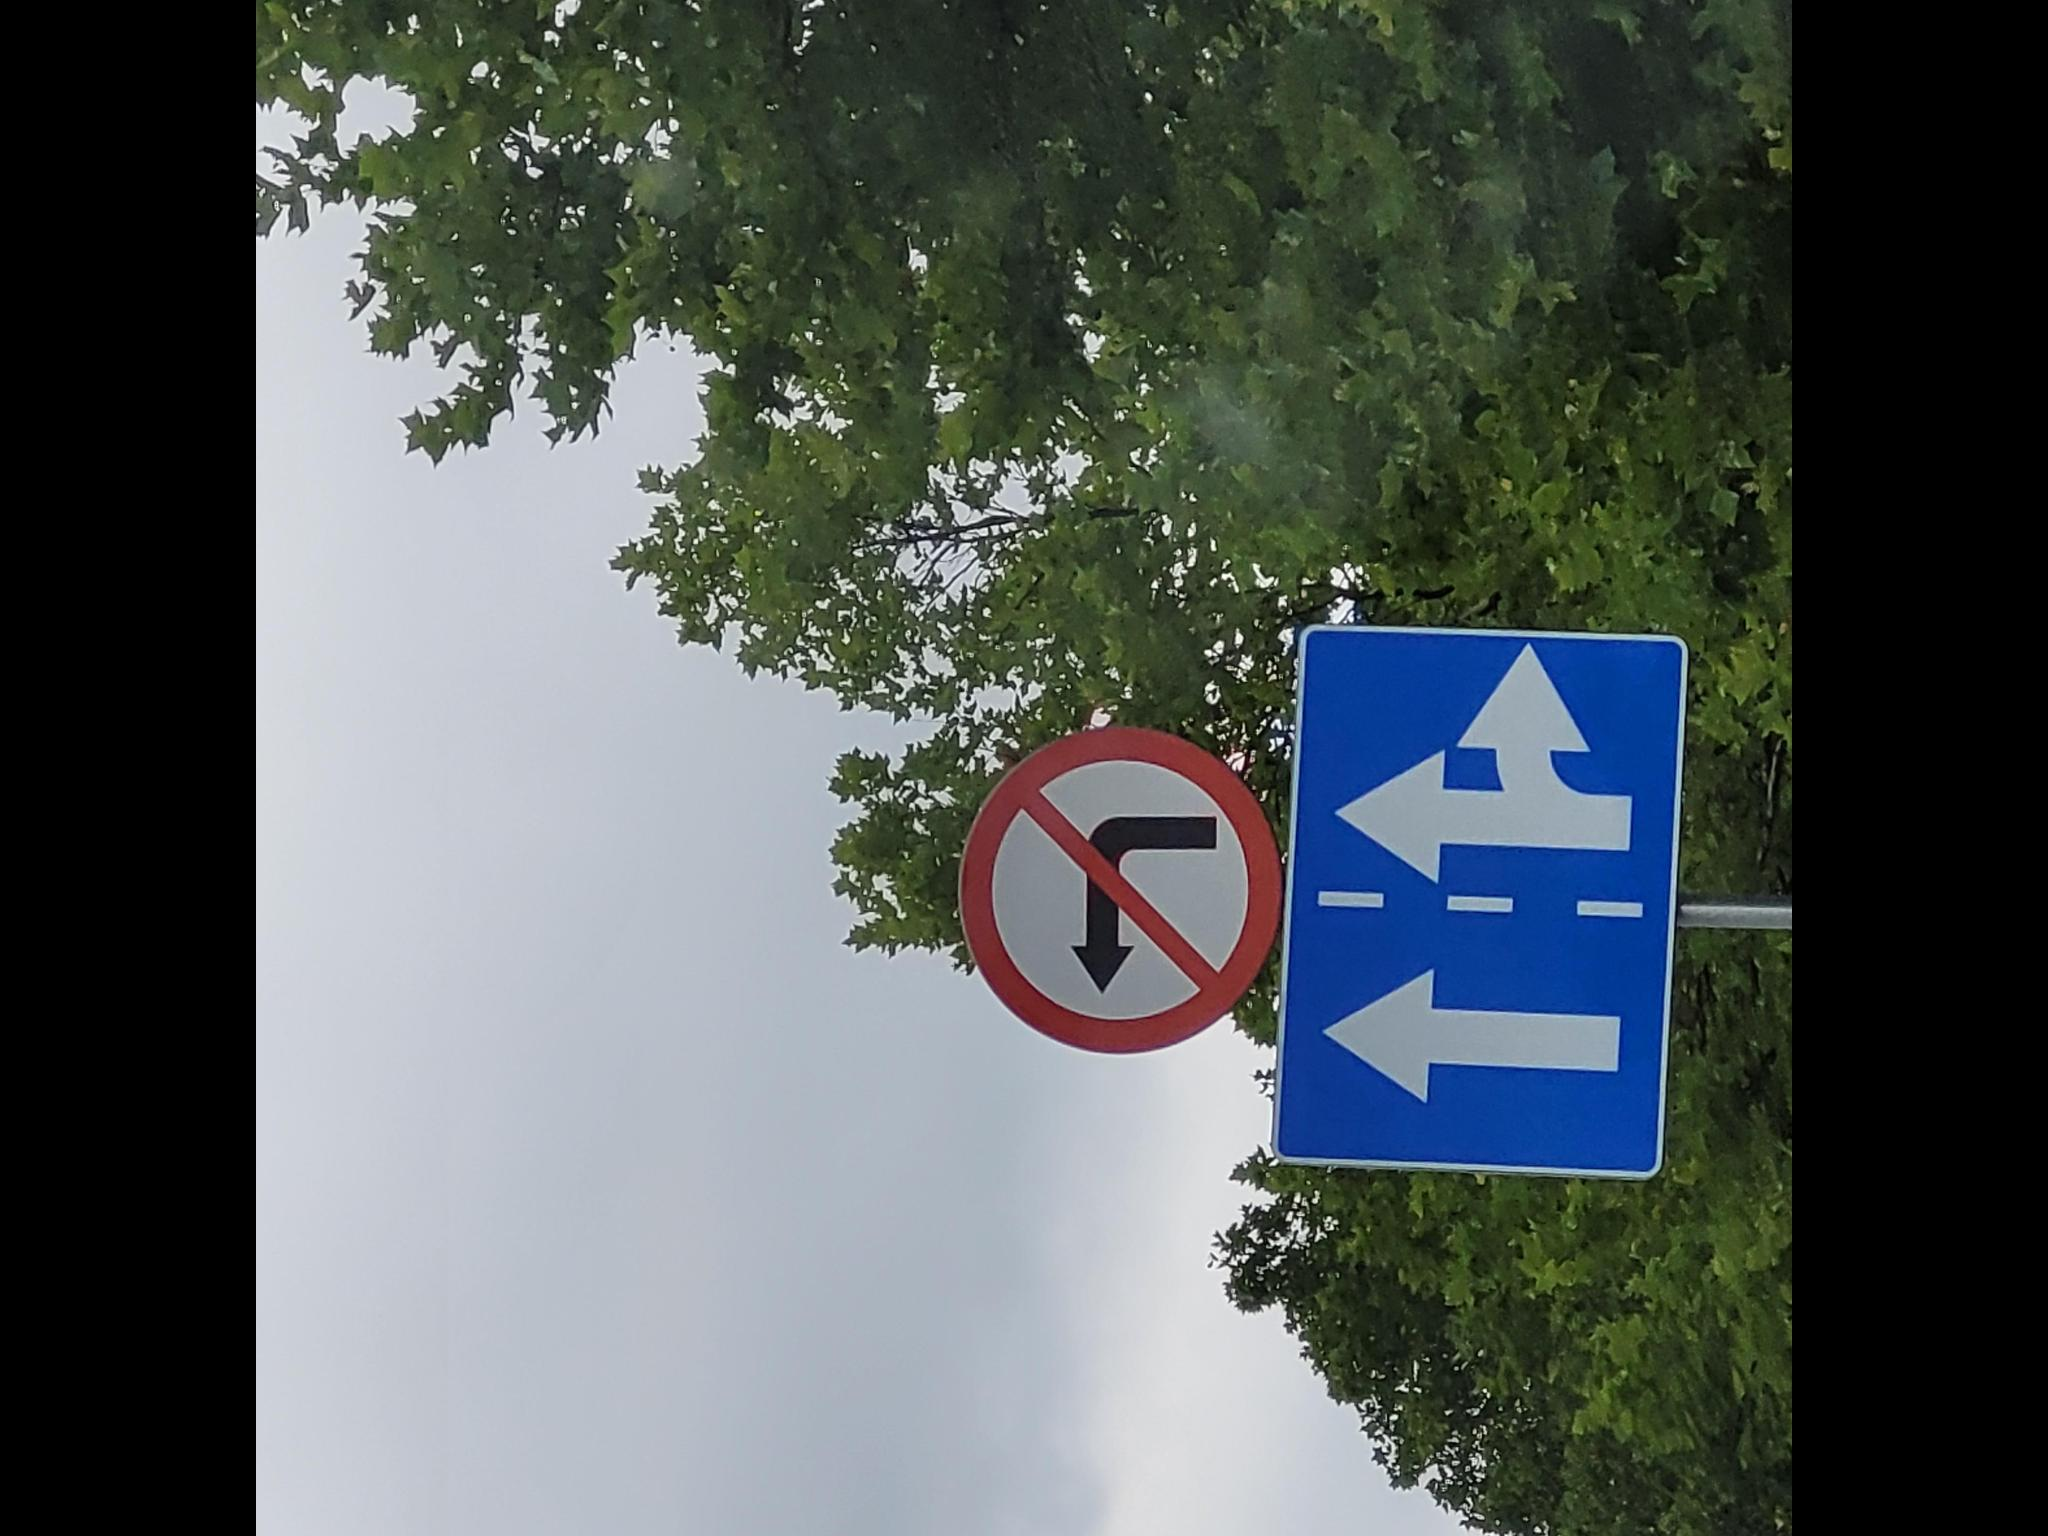other: (1277, 636, 1682, 1158)
prohibitory: (956, 724, 1285, 1055)
